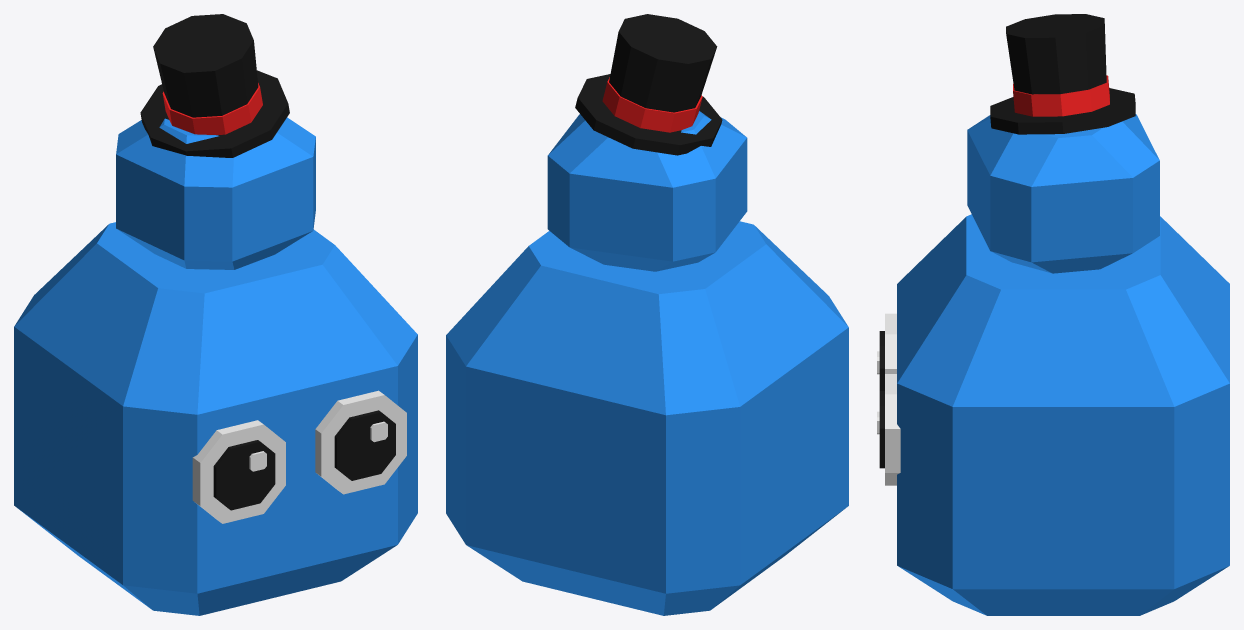
File: Stacky.fbx
3 renders of one model, left to right at view 1: azimuth 30°, elevation 25°; view 2: azimuth 150°, elevation 25°; view 3: azimuth 270°, elevation 25°, orthographic. The views are drawn at different scales.
Visible parts, largest first — view 1: Stacky, Stacky_Rock, Stacky_Hat, Stacky_Eyes, Stacky_Pupils, Stacky_Band; view 2: Stacky, Stacky_Rock, Stacky_Hat, Stacky_Band; view 3: Stacky, Stacky_Rock, Stacky_Hat, Stacky_Eyes, Stacky_Band, Stacky_Pupils.
Part boxes in pixels (left/top/right/bottom): Stacky: left=14, top=222, right=417, bottom=615; Stacky_Rock: left=116, top=117, right=315, bottom=269; Stacky_Hat: left=140, top=14, right=289, bottom=157; Stacky_Eyes: left=192, top=390, right=406, bottom=523; Stacky_Pupils: left=213, top=410, right=395, bottom=510; Stacky_Band: left=162, top=83, right=262, bottom=135; Stacky: left=446, top=221, right=848, bottom=615; Stacky_Rock: left=547, top=111, right=747, bottom=271; Stacky_Hat: left=575, top=14, right=722, bottom=155; Stacky_Band: left=602, top=77, right=702, bottom=132; Stacky: left=897, top=214, right=1229, bottom=615; Stacky_Rock: left=967, top=114, right=1159, bottom=273; Stacky_Hat: left=990, top=14, right=1135, bottom=134; Stacky_Eyes: left=877, top=313, right=900, bottom=485; Stacky_Band: left=1013, top=75, right=1109, bottom=116; Stacky_Pupils: left=879, top=331, right=884, bottom=468.
Bounding box in the file's own units: 2 × 3.45 × 2.04.
